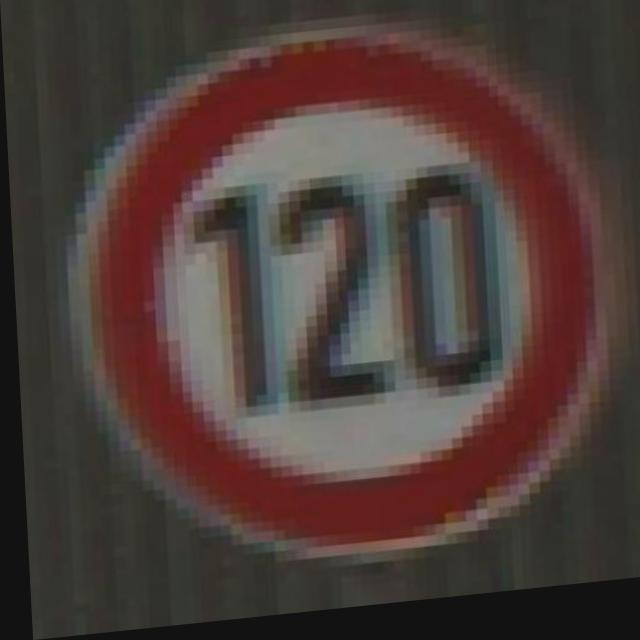limit120: (40, 7, 633, 602)
